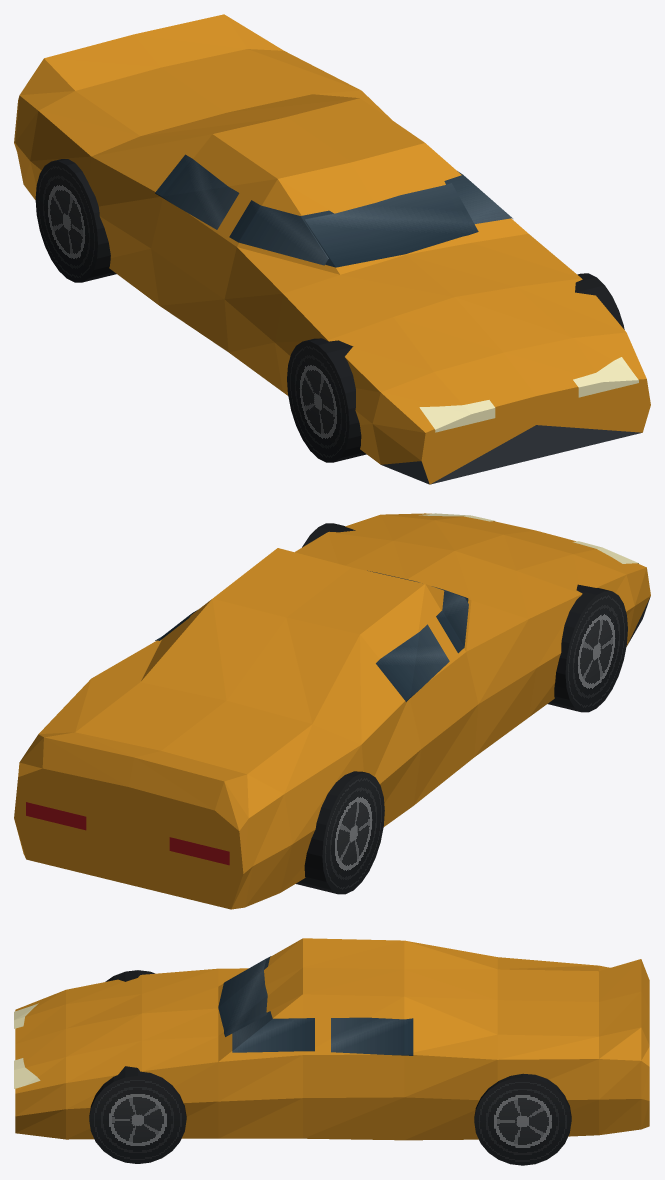
File: camaro.obj
The picture shows the model from 3 angles, top to bottom: view 1: azimuth 30°, elevation 25°; view 2: azimuth 150°, elevation 25°; view 3: azimuth 270°, elevation 25°; orthographic projection. The views are drawn at different scales.
Parts seen in each view (by area): view 1: camaro; view 2: camaro; view 3: camaro.
Boxes of the visible parts, x1,y1,x2,y2 form: camaro: [14, 14, 650, 484]; camaro: [14, 513, 650, 909]; camaro: [14, 938, 649, 1165].
Bounding box in the file's own units: 1.95 × 1.21 × 4.82.
Materials: 7 (2 with a texture image).
